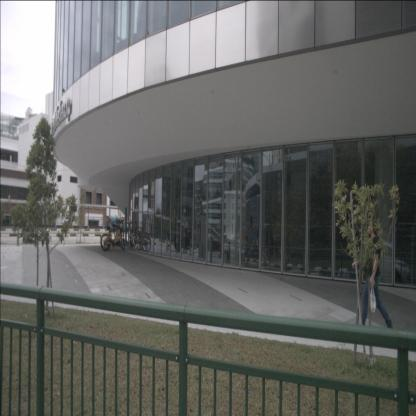human-pedestrian-adult: (358, 214, 394, 346)
vehicle-bicycle: (101, 218, 125, 251), (132, 226, 151, 254), (130, 224, 146, 251)
vehicle-car: (364, 239, 411, 285), (222, 238, 252, 262)
